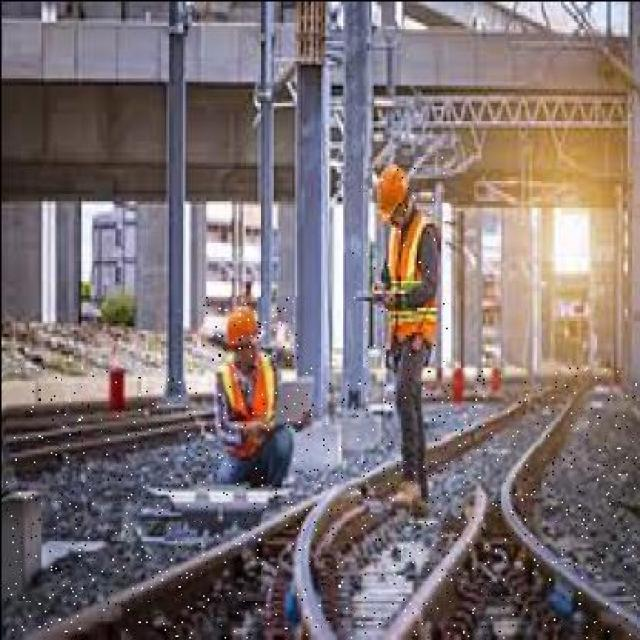rail: (9, 368, 636, 638)
